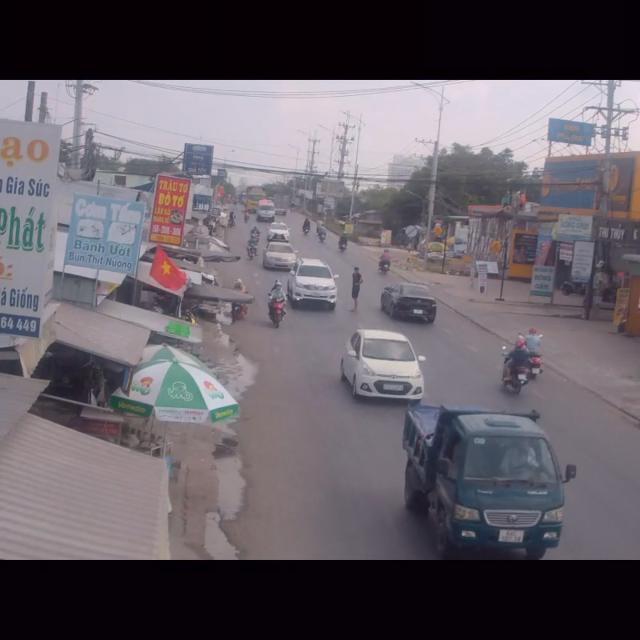car: (340, 328, 424, 407), (284, 258, 338, 316), (382, 280, 438, 328), (264, 239, 298, 271)
motorbike: (501, 336, 533, 404), (527, 330, 545, 385), (270, 280, 287, 334)
truck: (400, 405, 571, 556)
